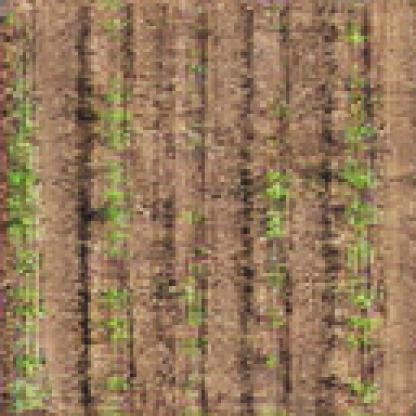sorghum_plant: (338, 22, 381, 412), (0, 85, 45, 410), (81, 72, 143, 263), (87, 283, 142, 398), (254, 158, 295, 254)
